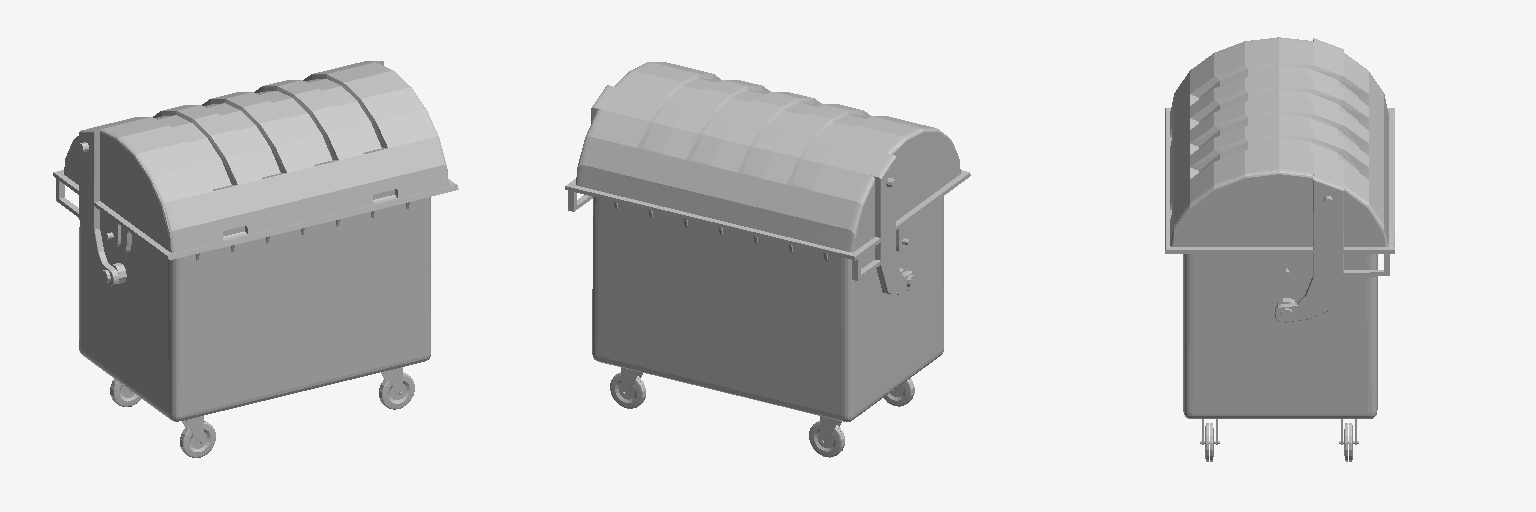
The model's file is garbage_bin.obj.
3 views of the same model, side by side, from view 1: azimuth 30°, elevation 25°; view 2: azimuth 150°, elevation 25°; view 3: azimuth 270°, elevation 25° (orthographic).
Parts seen in each view (by area): view 1: Cylinder06, Object01, Box07, Box05, Cylinder14; view 2: Cylinder06, Object01, Box06, Box08; view 3: Object01, Cylinder06, Cylinder13.
Boxes of the visible parts, box(x1,y1,x2,y2) form: Cylinder06: box(79, 189, 430, 421); Object01: box(53, 61, 458, 286); Box07: box(379, 367, 414, 409); Box05: box(180, 416, 215, 457); Cylinder14: box(105, 214, 131, 255); Cylinder06: box(592, 196, 943, 421); Object01: box(565, 62, 970, 294); Box06: box(809, 416, 844, 457); Box08: box(610, 367, 645, 408); Object01: box(1165, 37, 1394, 322); Cylinder06: box(1183, 254, 1377, 418); Cylinder13: box(1262, 254, 1312, 286).
Bounding box in the file's own units: 128 × 123 × 84.72.